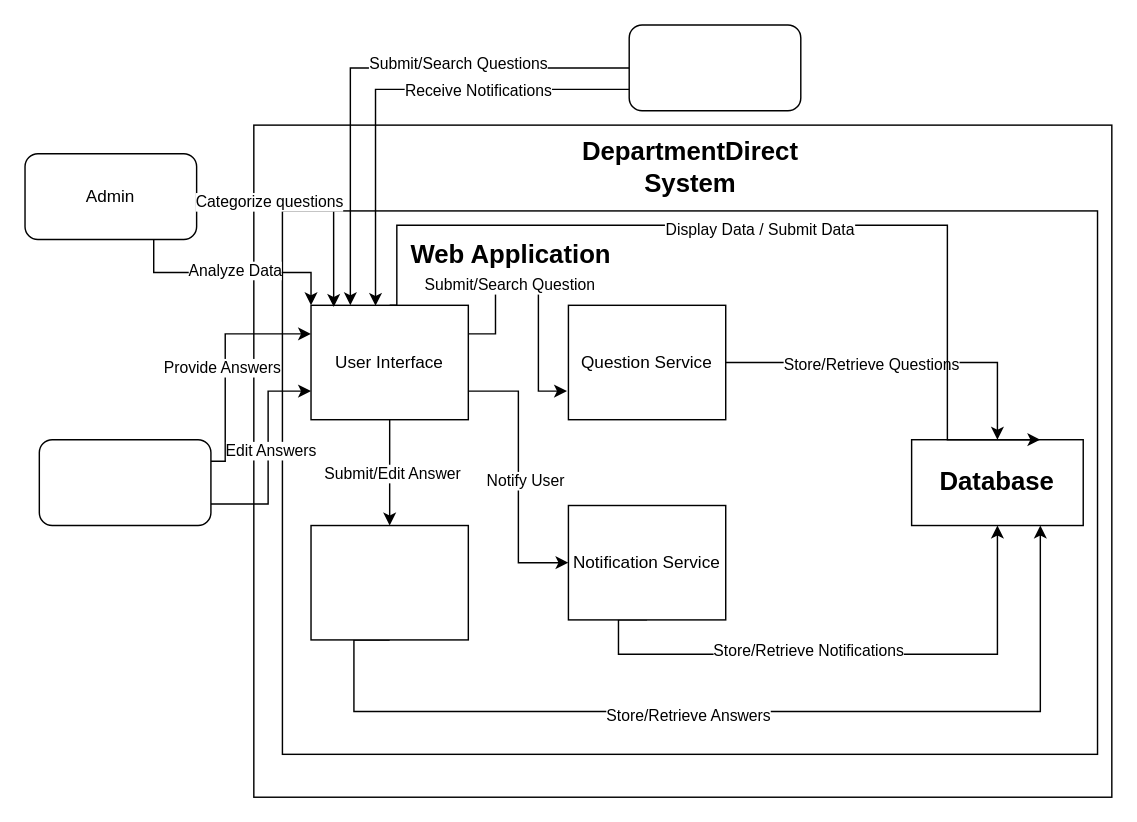
This 1137x822 diagram has some shape labels left out. Here are the shapes that lost their labels. From the top down, the centre of each, then its label:
the point at 714,67: Future Applicant
the point at 124,482: Department Staff
the point at 389,582: Answer Service
